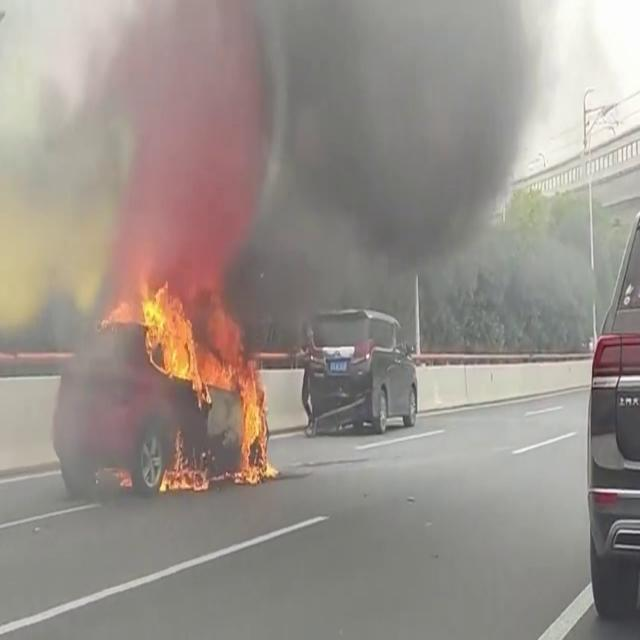accident: (58, 308, 414, 488), (55, 324, 268, 488), (304, 310, 414, 428)
